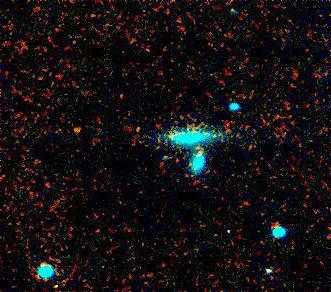star: (61, 115, 91, 145)
